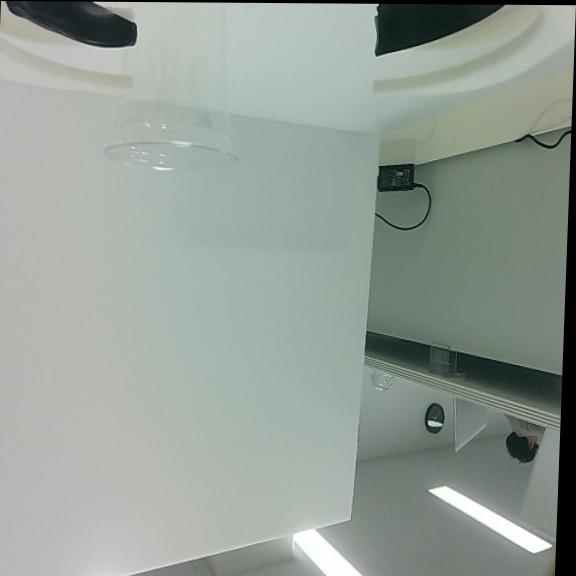Plastik: (101, 1, 238, 169)
